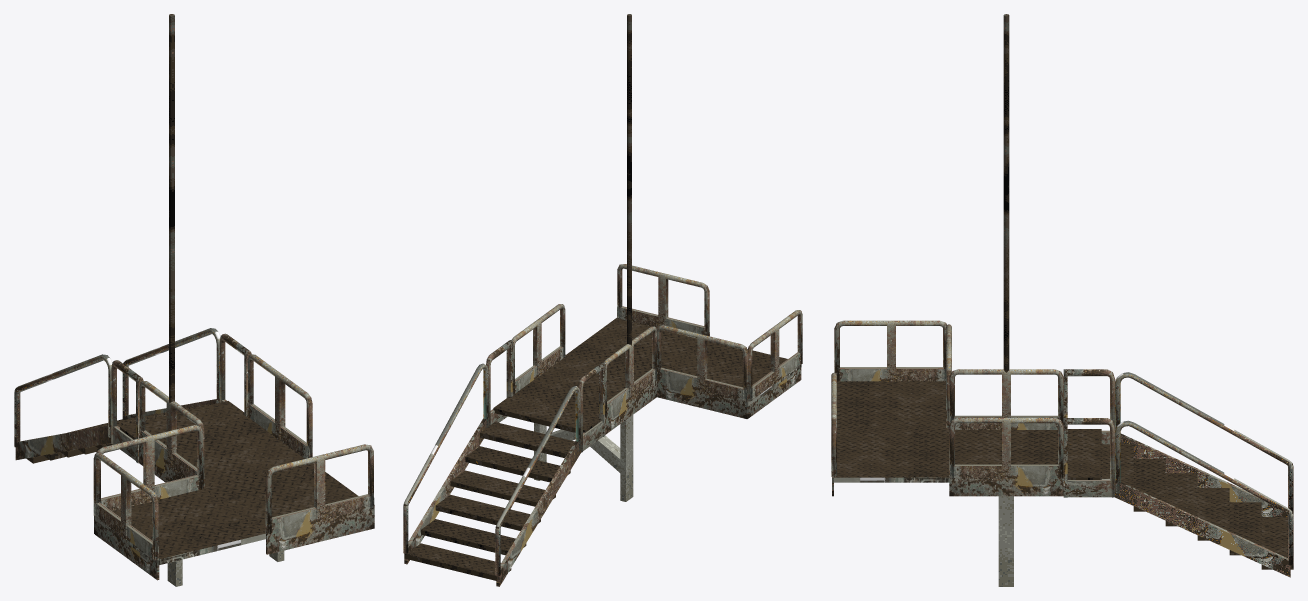
Rendered from catwalk.glb.
3 views of the same model, side by side, from view 1: azimuth 30°, elevation 25°; view 2: azimuth 150°, elevation 25°; view 3: azimuth 270°, elevation 25° (orthographic). The views are drawn at different scales.
Visible parts, largest first — view 1: Cube.002-col, Cube-col, Cube.001-col, stairs2-col, Cylinder-col, Cube.004-col; view 2: stairs2-col, Cube.002-col, Cube-col, Cube.001-col, Cube.004-col, Cylinder-col; view 3: stairs2-col, Cube-col, Cube.002-col, Cube.001-col, Cylinder-col, Cube.004-col.
Part boxes in pixels (<box>): Cube.002-col: <box>93,425,265,580</box>; Cube-col: <box>139,354,312,487</box>; Cube.001-col: <box>203,444,374,554</box>; stairs2-col: <box>14,328,251,463</box>; Cylinder-col: <box>169,14,174,402</box>; Cube.004-col: <box>167,550,284,586</box>; stairs2-col: <box>403,340,605,586</box>; Cube.002-col: <box>657,310,802,418</box>; Cube-col: <box>511,304,656,434</box>; Cube.001-col: <box>565,264,709,375</box>; Cube.004-col: <box>534,415,633,501</box>; Cylinder-col: <box>627,14,631,345</box>; stairs2-col: <box>1063,369,1293,577</box>; Cube-col: <box>949,369,1063,496</box>; Cube.002-col: <box>834,320,951,428</box>; Cube.001-col: <box>831,373,948,496</box>; Cylinder-col: <box>1003,14,1009,372</box>; Cube.004-col: <box>998,496,1013,586</box>.
Bounding box in the file's own units: 4.1 × 10.05 × 8.05.
Materials: 1 (1 with a texture image).
